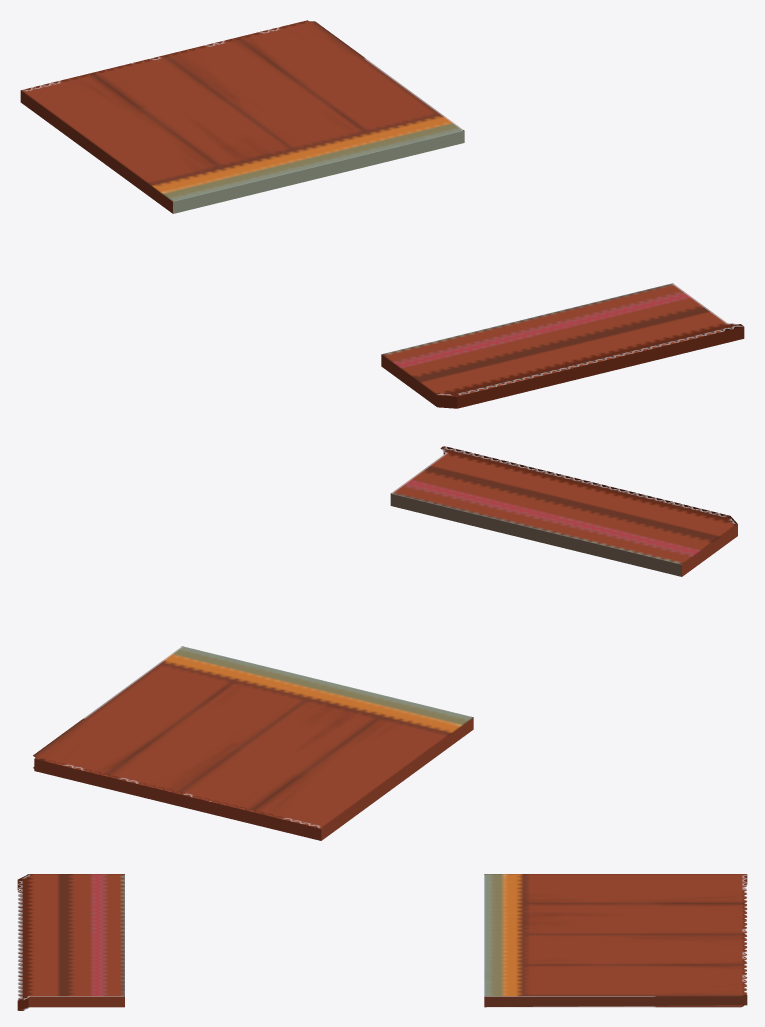
The model's file is pz_native_location_restaurant_spiffos_01_17_frame.obj.
The picture shows the model from 3 angles, top to bottom: view 1: azimuth 30°, elevation 25°; view 2: azimuth 150°, elevation 25°; view 3: azimuth 270°, elevation 25°; orthographic projection. The views are drawn at different scales.
Visible parts, largest first — view 1: pz_native_location_restaurant_spiffos_01_17_frame; view 2: pz_native_location_restaurant_spiffos_01_17_frame; view 3: pz_native_location_restaurant_spiffos_01_17_frame.
Boxes of the visible parts, x1,y1,x2,y2 form: pz_native_location_restaurant_spiffos_01_17_frame: (20,20,744,408); pz_native_location_restaurant_spiffos_01_17_frame: (33,446,737,840); pz_native_location_restaurant_spiffos_01_17_frame: (17,874,747,1010).
Size of the model in its own units: 1.06 by 0.04 by 2.54.
Materials: 1 (1 with a texture image).
